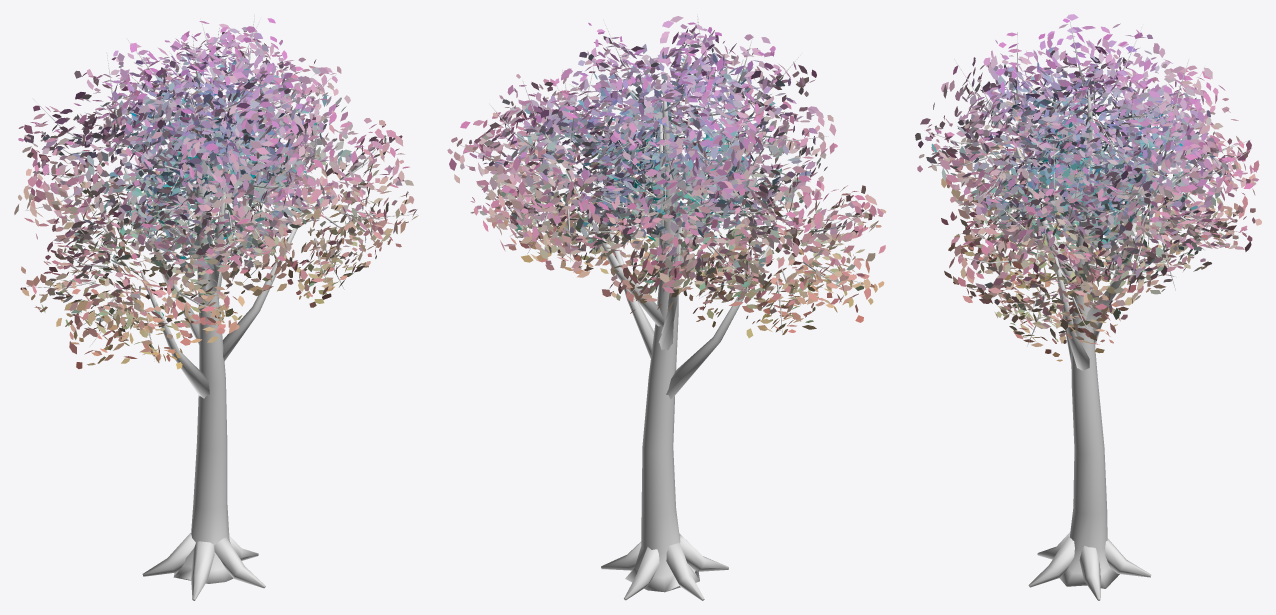
File: broadleaf_lod0.glb
The picture shows the model from 3 angles, left to right: view 1: azimuth 30°, elevation 25°; view 2: azimuth 150°, elevation 25°; view 3: azimuth 270°, elevation 25°; orthographic projection. The views are drawn at different scales.
Parts seen in each view (by area): view 1: LeafClump_Canopy, Trunk_Branches_LOD0; view 2: LeafClump_Canopy, Trunk_Branches_LOD0; view 3: LeafClump_Canopy, Trunk_Branches_LOD0.
Boxes of the visible parts, x1,y1,x2,y2 form: LeafClump_Canopy: [14, 18, 418, 369]; Trunk_Branches_LOD0: [25, 14, 417, 600]; LeafClump_Canopy: [447, 16, 886, 338]; Trunk_Branches_LOD0: [456, 15, 869, 600]; LeafClump_Canopy: [915, 14, 1261, 361]; Trunk_Branches_LOD0: [924, 14, 1251, 600].
Bounding box in the file's own units: 7.29 × 10.04 × 5.75.
